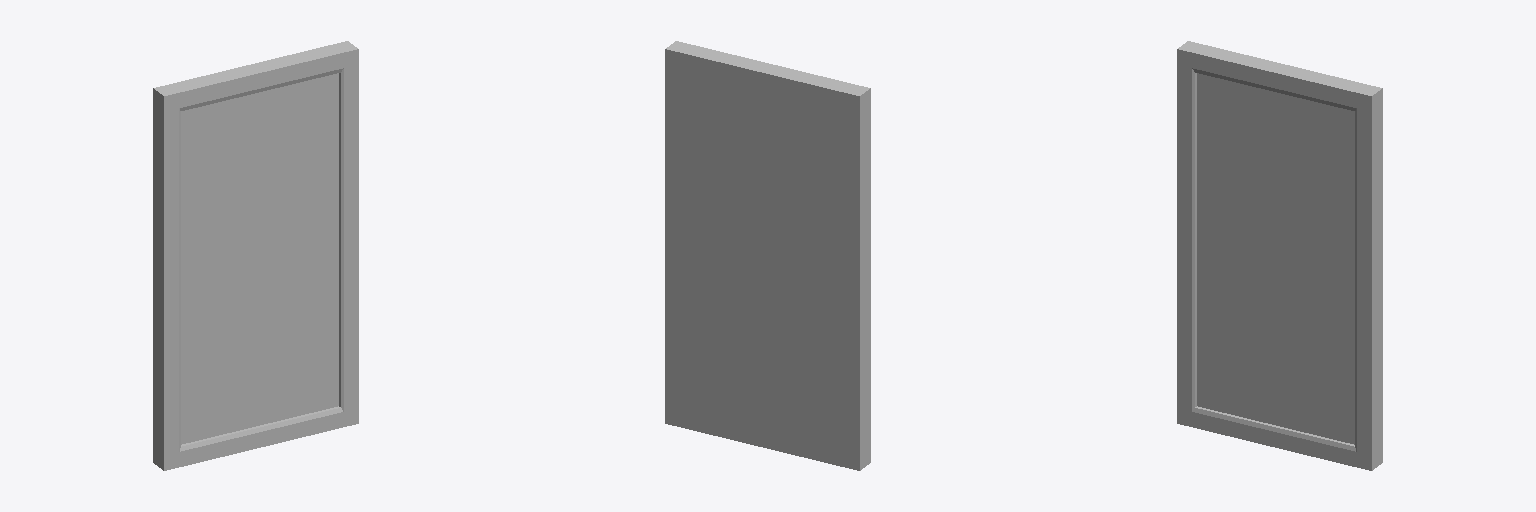
The model's file is cabinet_door.obj.
3 views of the same model, side by side, from view 1: azimuth 30°, elevation 25°; view 2: azimuth 150°, elevation 25°; view 3: azimuth 330°, elevation 25° (orthographic).
Visible parts, largest first — view 1: cabinet:Mesh; view 2: cabinet:Mesh; view 3: cabinet:Mesh.
Boxes of the visible parts, box(x1,y1,x2,y2) form: cabinet:Mesh: box(153, 41, 358, 470); cabinet:Mesh: box(665, 41, 870, 470); cabinet:Mesh: box(1177, 41, 1382, 470).
Bounding box in the file's own units: 3.96 × 7.29 × 0.3935.